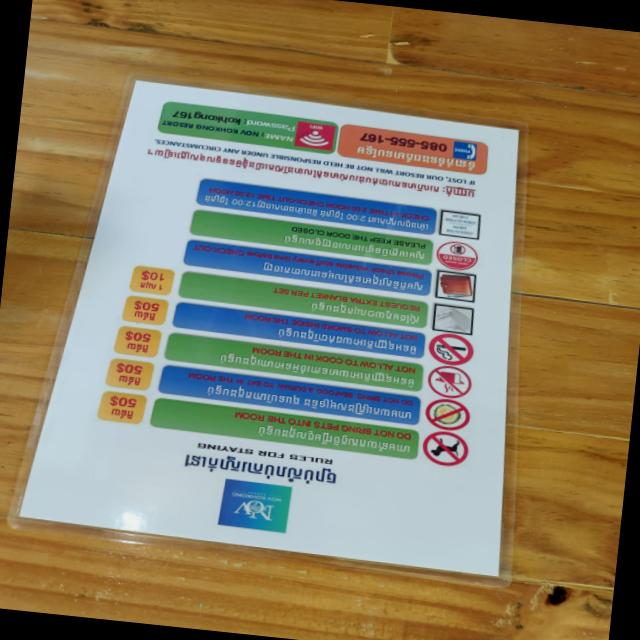1: (144, 144, 479, 201), (203, 381, 412, 424)
403: (356, 129, 451, 155)
47: (201, 191, 431, 233)
504: (136, 279, 164, 292)
528: (136, 268, 167, 283)
606: (170, 109, 193, 120)
774: (104, 393, 141, 410), (112, 361, 147, 376), (121, 329, 154, 343), (131, 299, 163, 313)
Yolov11kh: (214, 350, 417, 391), (179, 449, 337, 489), (259, 260, 424, 294), (253, 422, 412, 456), (274, 325, 420, 357), (281, 230, 425, 262), (353, 142, 477, 173), (308, 298, 421, 327), (122, 341, 153, 354), (114, 375, 142, 389), (106, 407, 135, 420), (130, 310, 159, 322)
